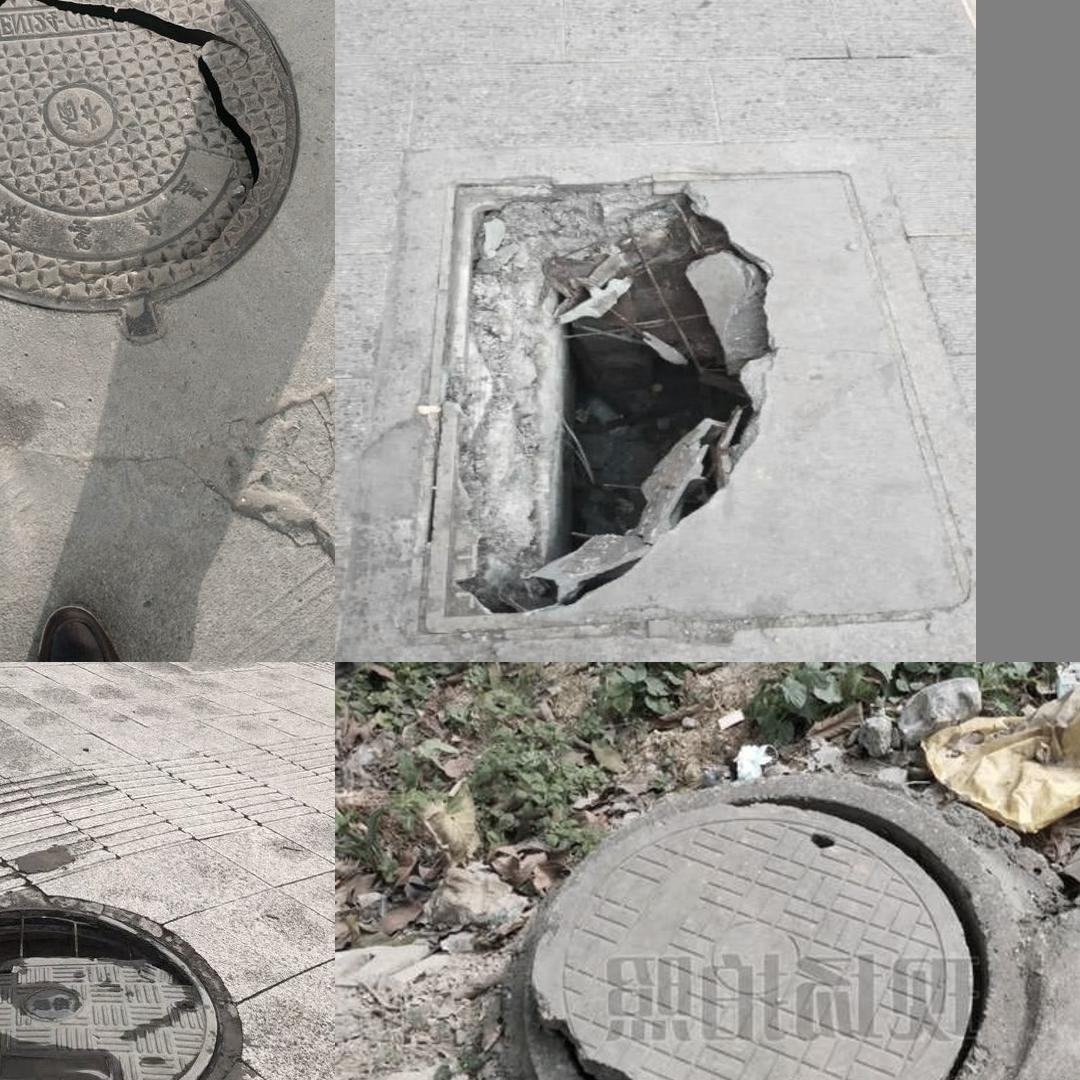broke: (399, 151, 946, 632), (484, 760, 1063, 1080), (0, 0, 320, 412), (0, 902, 221, 1080)
